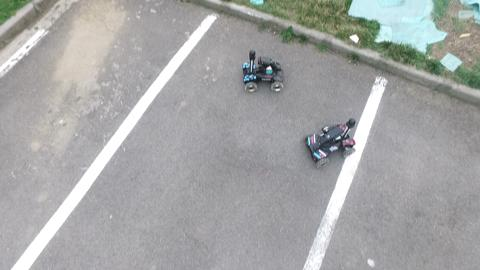chariot: (295, 110, 361, 173), (235, 48, 291, 99)
